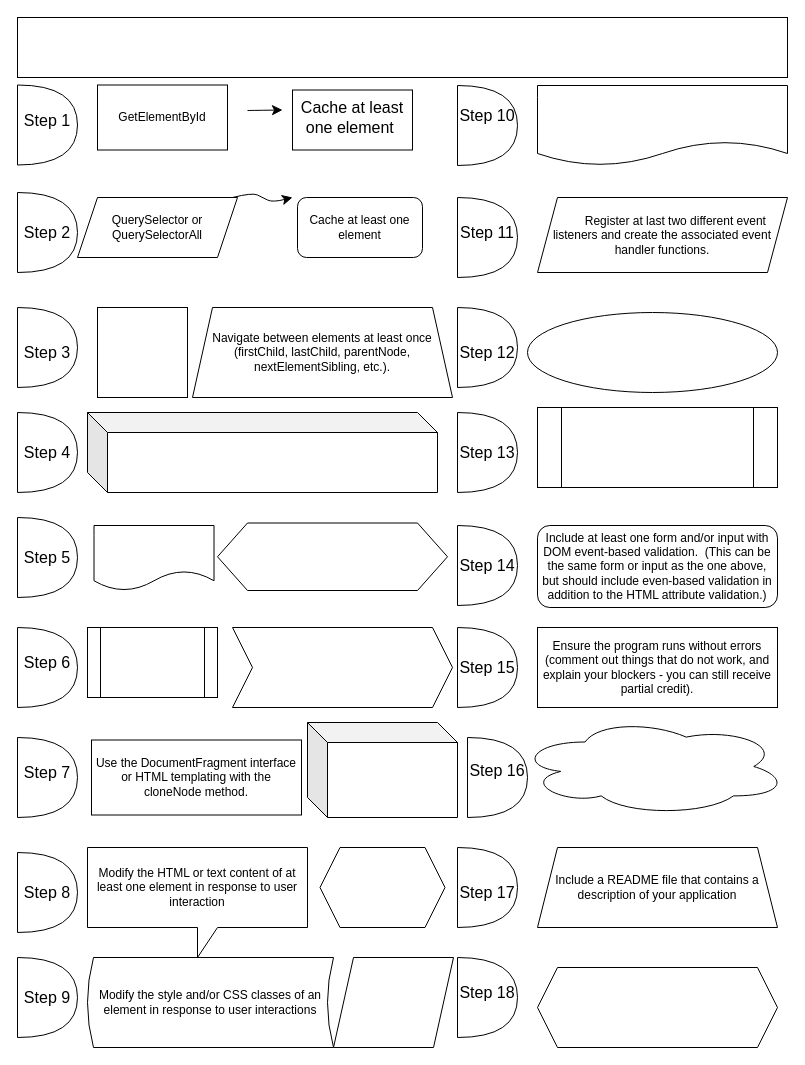
Some shapes in this 805 by 1065 pixel diagram are drawn without their labels. Here are the shapes that lost their labels. From the top down, the centre of each, then its label:
At [402,47]: "Document Object Model - Module 316".
At [662,125]: "Modify at least one attribute of an element in response to user interaction.".
At [142,352]: "Use parent-child-sibling relationship".
At [652,352]: "Use at least two Browser Object Model (BOM) properties or methods.".
At [262,452]: "Iterate over a collection of elements to accomplish some task.".
At [657,447]: "Include at least one form and/or input with HTML attribute validation".
At [153,557]: "createElement".
At [332,556]: "Create at least one element using createElement".
At [152,662]: "appendchild and/or prepend".
At [342,667]: "Add new elements to the DOM".
At [382,770]: "Create templated content".
At [652,766]: "Commit frequently to git repository".
At [382,887]: "Using innerHTML, innerText, or textContent".
At [393,1002]: "Use style or classList properties".
At [657,1007]: "Level of effort displayed in creativity, presentation, and user experience".
